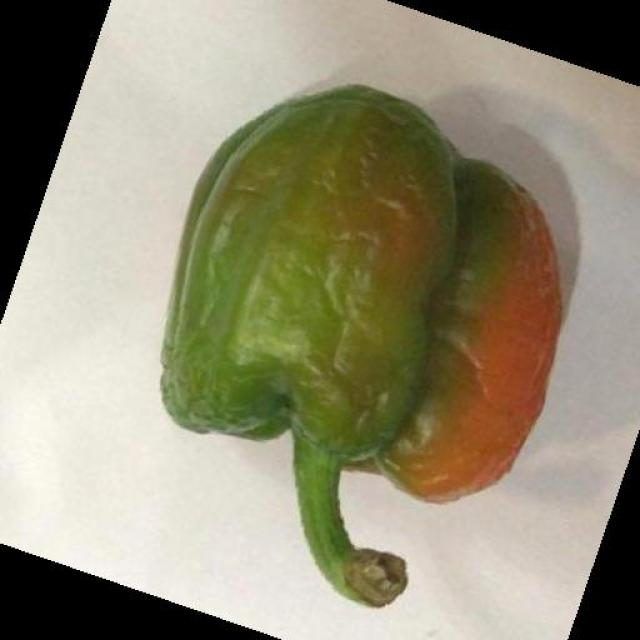Stale_Capsicum: (158, 84, 580, 526)
